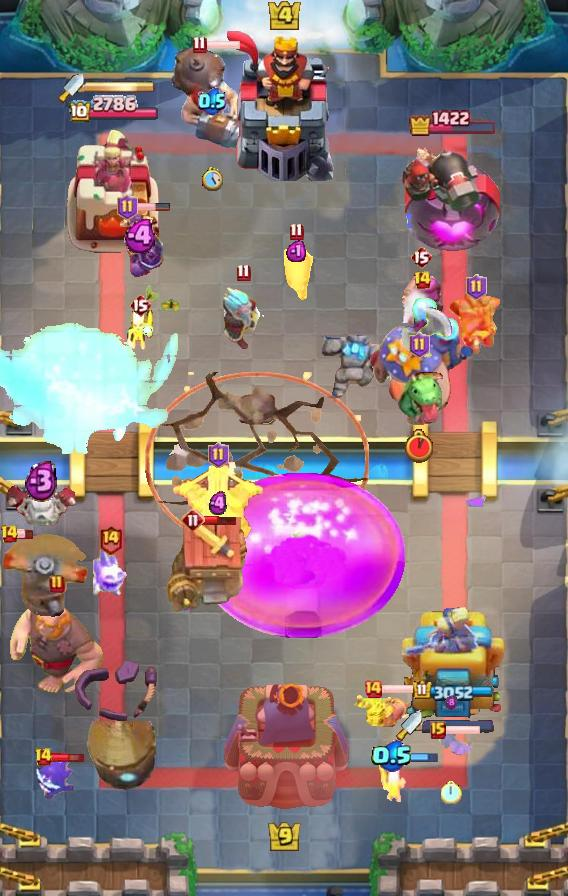balloon: (7, 595, 107, 699)
bar: (399, 607, 507, 731), (64, 124, 164, 256)
barbarian: (429, 726, 473, 756)
dark-prince: (0, 534, 90, 620)
electro-spirit: (25, 458, 60, 501), (371, 740, 413, 772), (124, 219, 160, 253), (198, 87, 226, 115), (286, 238, 306, 262), (209, 491, 227, 517), (445, 694, 457, 709)
electro-wizard: (386, 362, 452, 424)
elixir: (405, 429, 433, 463), (201, 167, 222, 191), (442, 780, 463, 804)
emote: (387, 752, 439, 763), (203, 39, 241, 51), (50, 751, 85, 764), (381, 683, 418, 695), (443, 724, 480, 736), (202, 514, 238, 525), (135, 202, 171, 212), (15, 528, 34, 539)
firecracker-evolution: (120, 212, 164, 280)
giant: (279, 246, 313, 304)
goblin-barrel: (447, 293, 505, 355)
goblin-hut: (352, 695, 419, 729)
guard: (145, 372, 369, 552)
heal-spirit: (377, 759, 407, 805), (125, 307, 155, 351)
king-tower: (219, 678, 349, 826), (223, 31, 345, 181)
king-tower-bar: (84, 80, 156, 94), (422, 719, 494, 733)
knight-evolution: (198, 473, 406, 640)
lava-pup: (169, 461, 267, 543)
little-prince: (368, 295, 476, 429)
mega-knight: (0, 306, 200, 480)
mini-pekka: (3, 481, 79, 531)
mirror: (90, 547, 130, 599)
mortar: (217, 285, 269, 349)
royal-giant: (400, 307, 458, 369)
selected: (68, 95, 160, 125), (408, 109, 498, 137), (414, 679, 495, 700)
sparky: (167, 516, 253, 614)
spear-goblin: (34, 759, 76, 799)
text: (98, 525, 122, 556), (181, 508, 205, 532), (117, 194, 138, 220), (465, 274, 486, 300), (410, 332, 431, 358), (208, 442, 229, 468), (410, 245, 432, 269), (129, 293, 151, 317), (363, 679, 383, 699), (413, 270, 432, 290), (1, 524, 20, 544), (35, 747, 54, 767), (49, 574, 65, 594), (430, 721, 446, 739), (289, 223, 304, 242), (236, 262, 251, 281), (193, 35, 208, 53)
tombstone: (396, 267, 446, 323)
tower-bar: (402, 136, 504, 256)
valkyrie-evolution: (322, 334, 394, 404)
wizard: (168, 43, 256, 151)
x-bow: (85, 721, 163, 799)
